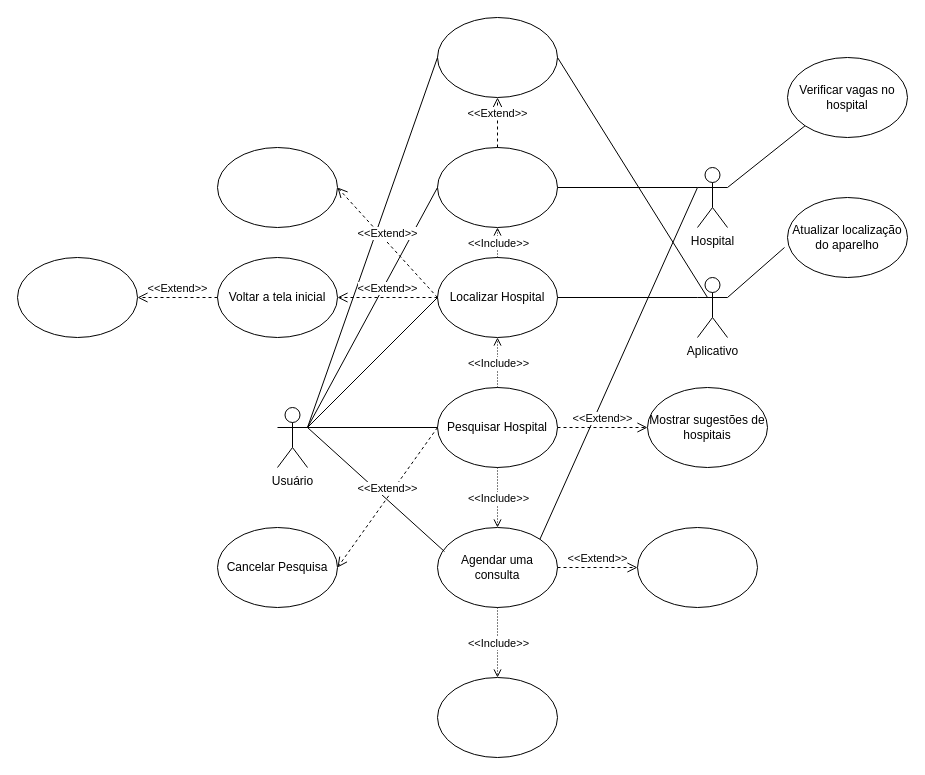
Image size: 925x775. Some labels were removed from this diagram. Each missing label, with the centre of its shape:
"Confirmar consulta" goes at point (697, 567).
"Escolher data" goes at point (497, 717).
"Fechar Aplicativo" goes at point (77, 297).
"Ler avaliações" goes at point (497, 57).
"Verificar avaliações de hospitais" goes at point (277, 187).
"Verificar disponibilidade" goes at point (497, 187).
